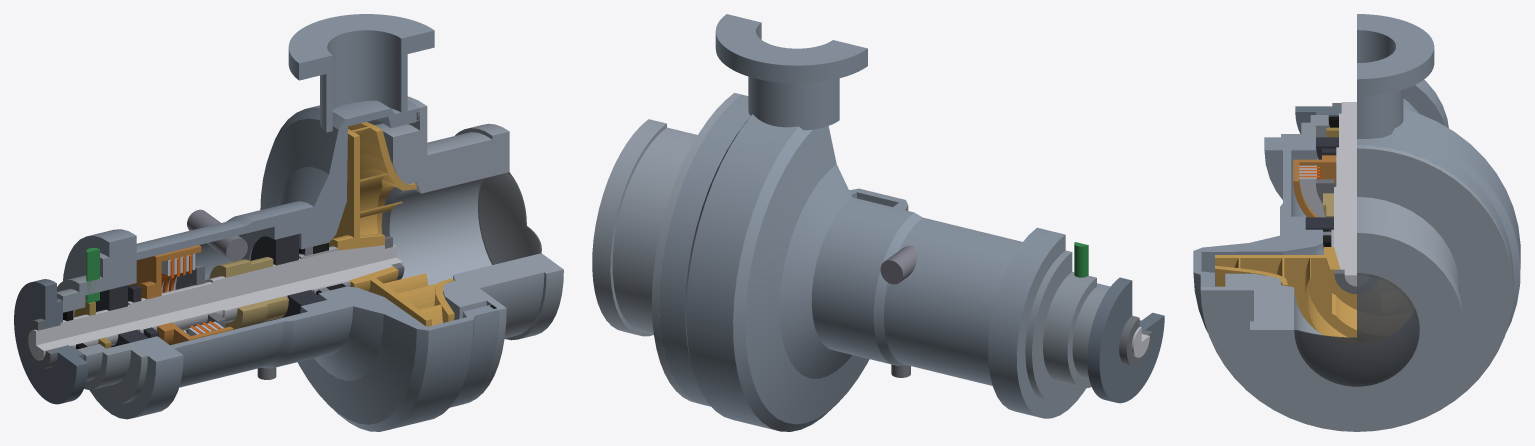
The model's file is NCPK_stupen_ND_razrez.glb.
3 views of the same model, side by side, from view 1: azimuth 30°, elevation 25°; view 2: azimuth 150°, elevation 25°; view 3: azimuth 270°, elevation 25° (orthographic). The views are drawn at different scales.
Visible parts, largest first — view 1: 20 Корпус насоса, 12 Крышка насоса, Вал, Напорный патрубок (к коллектору), 25 Корпус задней опоры, 1 Полумуфта, 13 Сетка, 14 Колесо рабочее: ступица и задний диск, 14 Колесо рабочее: лопатки (6 шт., форма условная), 14 Колесо рабочее: передний диск, Барабан муфты (шестерня привода ВД), 19 Втулка нажимная (+8 smaller); view 2: 20 Корпус насоса, 12 Крышка насоса, Напорный патрубок (к коллектору), 25 Корпус задней опоры, 1 Полумуфта, 8 Вилка (ось рукоятки включения ВД), Гайка конца вала; view 3: 12 Крышка насоса, 20 Корпус насоса, 13 Сетка, Напорный патрубок (к коллектору), 14 Колесо рабочее: ступица и задний диск, Вал, 14 Колесо рабочее: лопатки (6 шт., форма условная), Барабан муфты (шестерня привода ВД), 5 Муфта фрикционная: стальные диски, 25 Корпус задней опоры, 1 Полумуфта, 14 Колесо рабочее: передний диск (+2 smaller).
Boxes of the visible parts, bbox=[...] form: 20 Корпус насоса: bbox=[63, 100, 499, 431]; 12 Крышка насоса: bbox=[369, 96, 563, 404]; Вал: bbox=[28, 245, 402, 360]; Напорный патрубок (к коллектору): bbox=[288, 14, 434, 132]; 25 Корпус задней опоры: bbox=[57, 253, 147, 404]; 1 Полумуфта: bbox=[14, 279, 88, 404]; 13 Сетка: bbox=[478, 172, 541, 264]; 14 Колесо рабочее: ступица и задний диск: bbox=[329, 129, 431, 326]; 14 Колесо рабочее: лопатки (6 шт., форма условная): bbox=[352, 126, 442, 325]; 14 Колесо рабочее: передний диск: bbox=[348, 122, 454, 322]; Барабан муфты (шестерня привода ВД): bbox=[128, 245, 233, 345]; 19 Втулка нажимная: bbox=[209, 257, 288, 329]; 20 Корпус насоса: bbox=[659, 94, 1110, 431]; 12 Крышка насоса: bbox=[592, 93, 741, 403]; Напорный патрубок (к коллектору): bbox=[715, 14, 867, 130]; 25 Корпус задней опоры: bbox=[1025, 250, 1137, 403]; 1 Полумуфта: bbox=[1087, 277, 1164, 403]; 8 Вилка (ось рукоятки включения ВД): bbox=[880, 245, 917, 284]; Гайка конца вала: bbox=[1119, 316, 1152, 366]; 12 Крышка насоса: bbox=[1200, 145, 1513, 431]; 20 Корпус насоса: bbox=[1193, 79, 1520, 332]; 13 Сетка: bbox=[1294, 273, 1419, 386]; Напорный патрубок (к коллектору): bbox=[1357, 14, 1434, 138]; 14 Колесо рабочее: ступица и задний диск: bbox=[1215, 247, 1356, 337]; Вал: bbox=[1334, 102, 1356, 286]; 14 Колесо рабочее: лопатки (6 шт., форма условная): bbox=[1234, 258, 1411, 337]; Барабан муфты (шестерня привода ВД): bbox=[1293, 155, 1336, 217]; 5 Муфта фрикционная: стальные диски: bbox=[1299, 165, 1325, 217]; 25 Корпус задней опоры: bbox=[1281, 115, 1329, 137]; 1 Полумуфта: bbox=[1295, 106, 1341, 133]; 14 Колесо рабочее: передний диск: bbox=[1215, 265, 1324, 335].
Size of the model in its own units: 0.5429 by 0.3889 by 0.3179.
